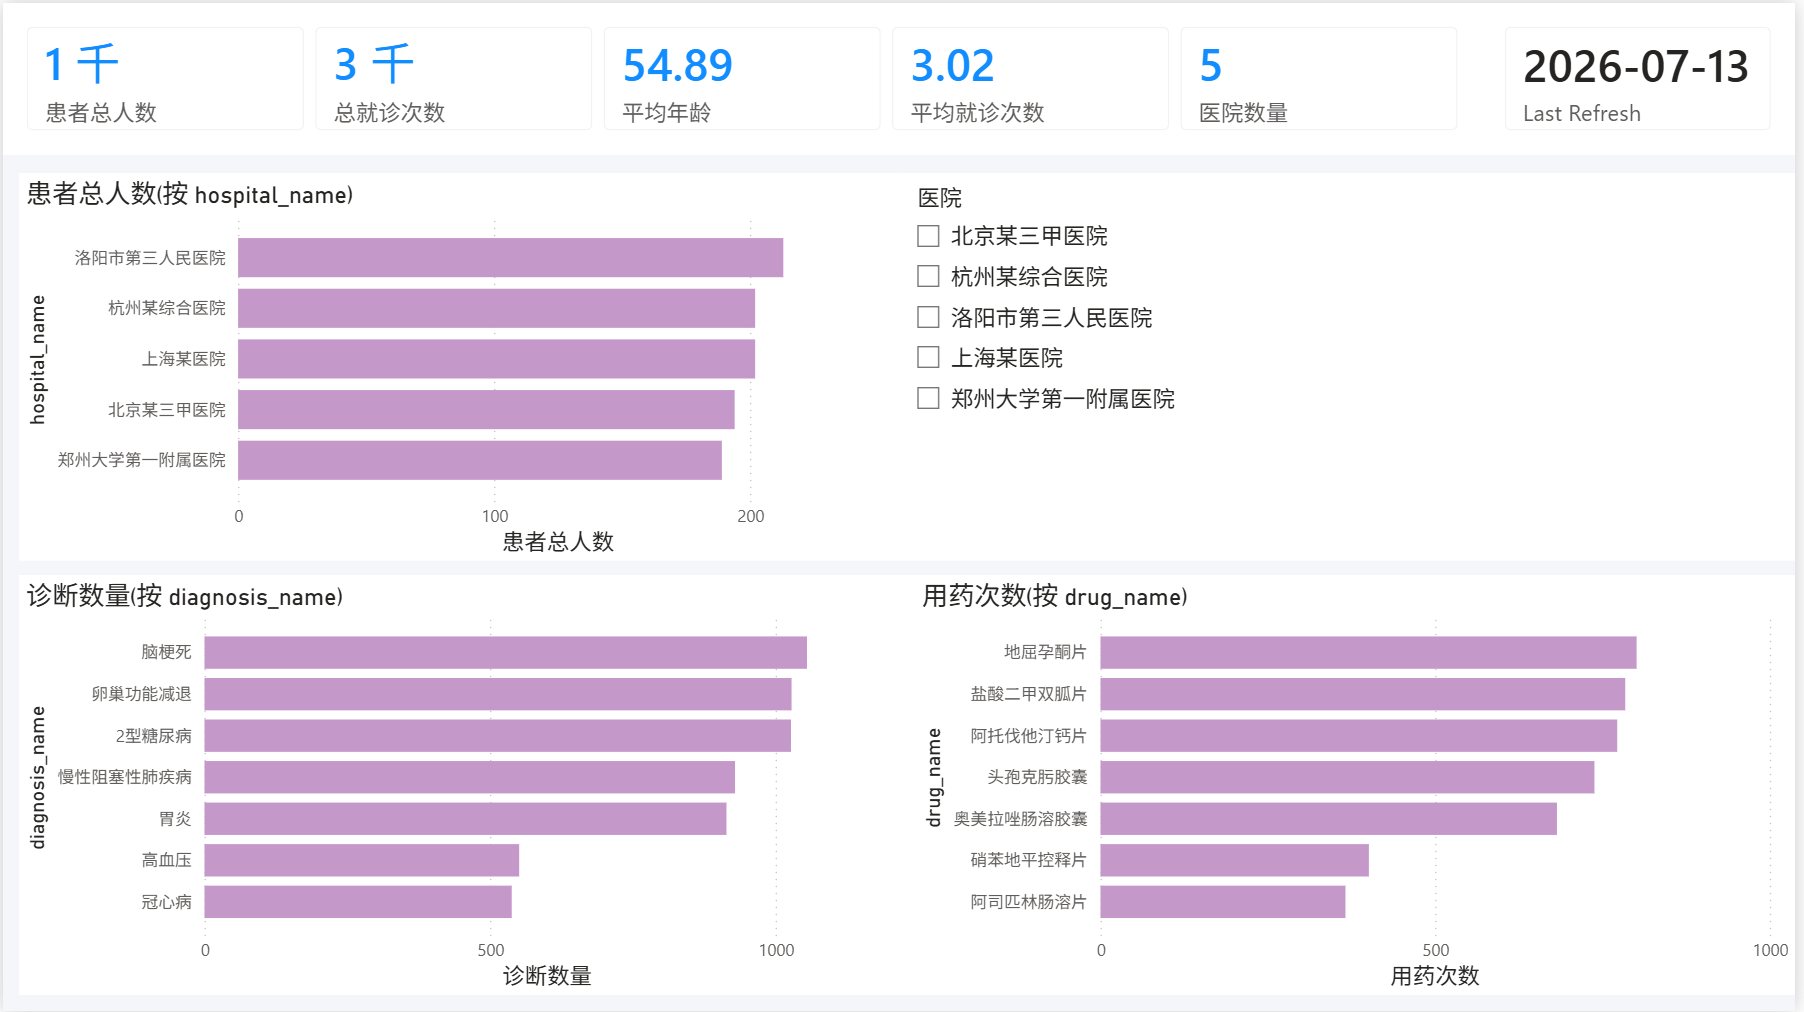

What the dashboard file says about the page in this screenshot:
{"tool":"powerbi","page":{"name":"医疗数据分析平台（Medical Data Dashboard）","canvas":[1280,720],"ordinal":0},"visuals":[{"type":"cardVisual","fields":{"Data":["public patient_synthetic.患者总人数","public visit_synthetic.总就诊次数","public patient_synthetic.平均年龄","public visit_synthetic.平均就诊次数","public patient_synthetic.医院数量"]},"box":[0,0,1057.1,108.6],"z":0},{"type":"clusteredBarChart","fields":{"Category":["public patient_synthetic.hospital_name"],"Y":["public patient_synthetic.患者总人数"]},"box":[11.4,121.4,628.6,277.1],"z":1000},{"type":"clusteredBarChart","fields":{"Category":["public diagnosis_synthetic.diagnosis_name"],"Y":["public diagnosis_synthetic.诊断数量"]},"box":[11.4,408.6,640,300],"z":2000},{"type":"clusteredBarChart","fields":{"Y":["public medication_synthetic.用药次数"],"Category":["public medication_synthetic.drug_name"]},"box":[651.4,408.6,628.6,300],"z":3000},{"type":"slicer","fields":{"Values":["public patient_synthetic.hospital_name"]},"box":[640,121.4,640,277.1],"z":4000},{"type":"cardVisual","title":"Last Refresh","fields":{"Data":["public diagnosis_synthetic.数据刷新时间"]},"box":[1055.7,0,224.3,108.6],"z":4001}]}

Visuals, with their boxes in screenshot pixels (x1, y1, x2, y2), scaled from the page's 1280x720 canvas onto the 1804x1012 screenshot:
cardVisual - public patient_synthetic.患者总人数 x public visit_synthetic.总就诊次数: rect(0, 0, 1490, 153)
clusteredBarChart - public patient_synthetic.hospital_name x public patient_synthetic.患者总人数: rect(16, 171, 902, 560)
clusteredBarChart - public diagnosis_synthetic.diagnosis_name x public diagnosis_synthetic.诊断数量: rect(16, 574, 918, 996)
clusteredBarChart - public medication_synthetic.用药次数 x public medication_synthetic.drug_name: rect(918, 574, 1803, 996)
slicer - public patient_synthetic.hospital_name: rect(902, 171, 1803, 560)
"Last Refresh" cardVisual: rect(1488, 0, 1803, 153)
